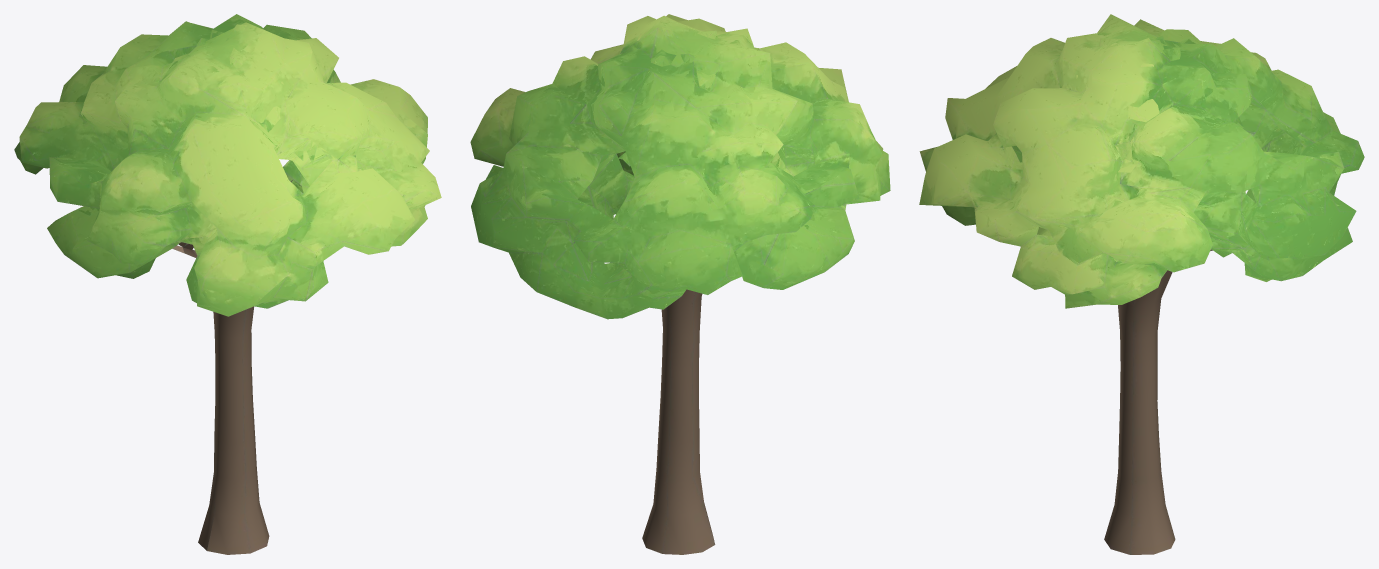
File: tree_round_b.glb
The picture shows the model from 3 angles, left to right: view 1: azimuth 30°, elevation 25°; view 2: azimuth 150°, elevation 25°; view 3: azimuth 270°, elevation 25°; orthographic projection.
Visible parts, largest first — view 1: body; view 2: body; view 3: body.
Part boxes in pixels (x1,y1,x2,y2): body: (14, 14, 441, 554); body: (470, 14, 890, 554); body: (919, 14, 1364, 554).
Size of the model in its own units: 3.31 by 4.38 by 3.49.
Materials: 2 (2 with a texture image).
